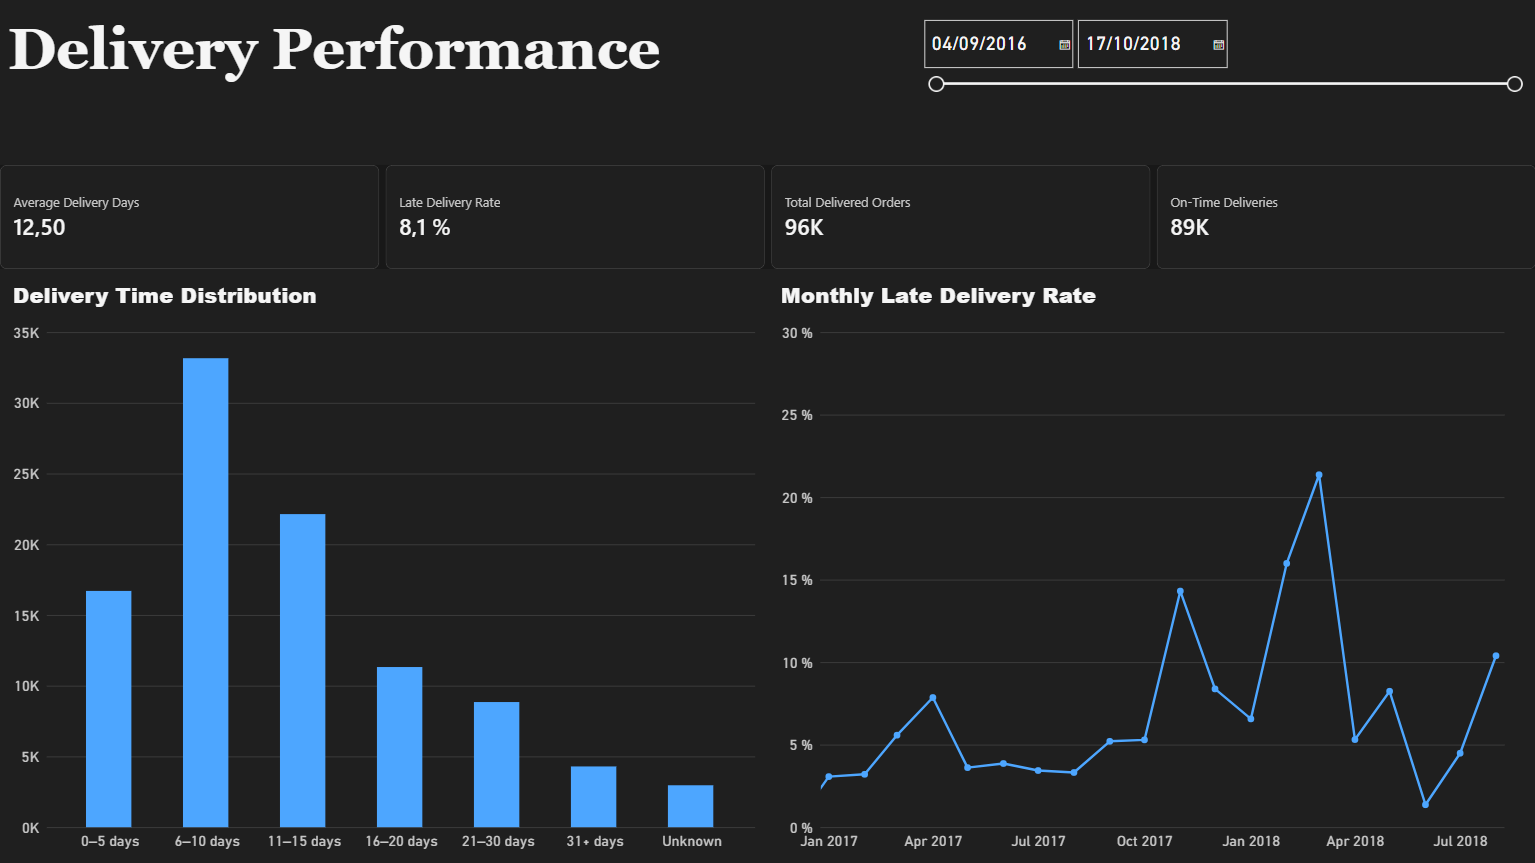

This screenshot's page, from the dashboard's own definition file:
{"tool":"powerbi","page":{"name":"Delivery Performance","canvas":[1920,1080],"ordinal":2},"visuals":[{"type":"cardVisual","fields":{"Data":["MART_DELIVERY.Average Delivery Days","MART_DELIVERY.Late Delivery Rate","MART_DELIVERY.Total Delivered Orders","MART_DELIVERY.On-Time Deliveries"]},"box":[0,206.2,1920,130],"z":0},{"type":"clusteredColumnChart","title":"Delivery Time Distribution","fields":{"Category":["MART_DELIVERY.Delivery Time Group"],"Y":["CountNonNull(MART_DELIVERY.ORDER_ID)"]},"box":[0,336.2,960,743.8],"z":1000},{"type":"lineChart","title":"Monthly Late Delivery Rate","fields":{"Category":["MART_DELIVERY.ORDER_PURCHASE_TIMESTAMP.Variation.Date Hierarchy.Year","MART_DELIVERY.ORDER_PURCHASE_TIMESTAMP.Variation.Date Hierarchy.Month"],"Y":["MART_DELIVERY.Late Delivery Rate"]},"box":[960,336.2,960,743.8],"z":2000},{"type":"slicer","fields":{"Values":["MART_DELIVERY.ORDER_PURCHASE_TIMESTAMP"]},"box":[1137.5,0,782.5,206.2],"z":3000},{"type":"textbox","box":[0,0,1137.5,206.2],"z":4000}]}

Visuals, with their boxes in screenshot pixels (x1, y1, x2, y2), scaled from the page's 1920x1080 canvas onto the 1535x863 screenshot:
cardVisual - MART_DELIVERY.Average Delivery Days x MART_DELIVERY.Late Delivery Rate: select_region(0, 165, 1534, 269)
"Delivery Time Distribution" clusteredColumnChart: select_region(0, 269, 768, 862)
"Monthly Late Delivery Rate" lineChart: select_region(768, 269, 1534, 862)
slicer - MART_DELIVERY.ORDER_PURCHASE_TIMESTAMP: select_region(909, 0, 1534, 165)
textbox: select_region(0, 0, 909, 165)
